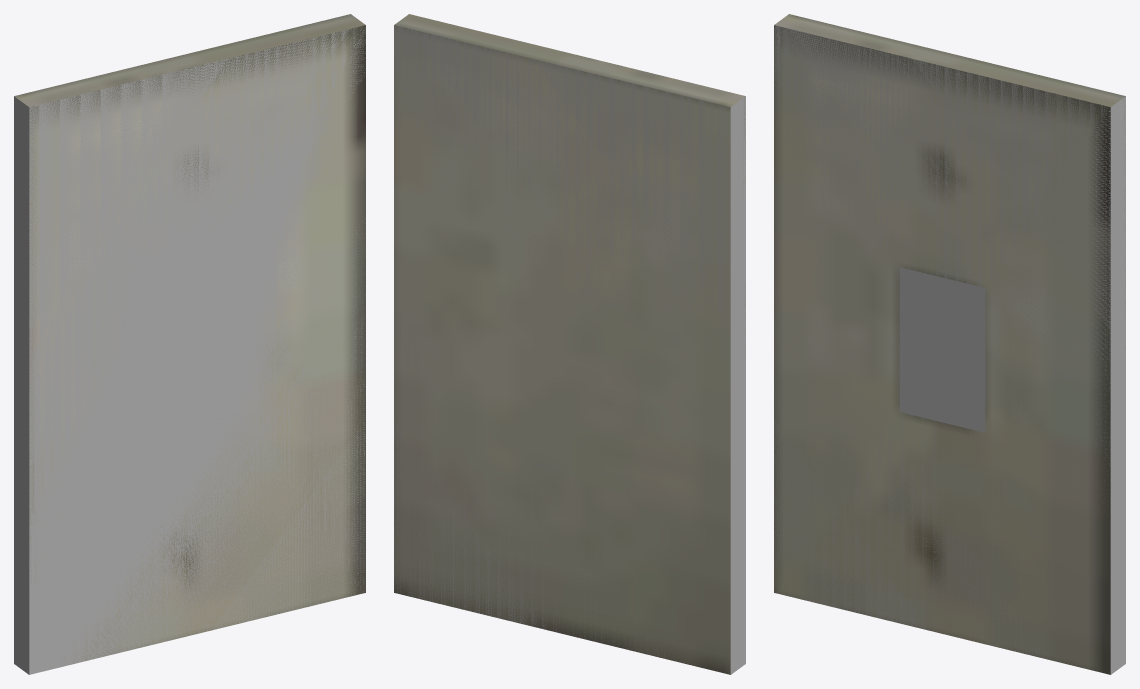
File: light_switch_01.DAE
3 renders of one model, left to right at view 1: azimuth 30°, elevation 25°; view 2: azimuth 150°, elevation 25°; view 3: azimuth 330°, elevation 25°, orthographic.
Visible parts, largest first — view 1: bounds, light_switch_one100; view 2: light_switch_one100, bounds; view 3: light_switch_one100, bounds.
Boxes of the visible parts, box(x1,y1,x2,y2) form: bounds: box(14, 27, 365, 674); light_switch_one100: box(14, 14, 365, 666); light_switch_one100: box(394, 14, 745, 674); bounds: box(394, 25, 745, 674); light_switch_one100: box(774, 14, 1125, 674); bounds: box(774, 25, 1125, 674).
Size of the model in its own units: 14.28 by 1.11 by 23.
